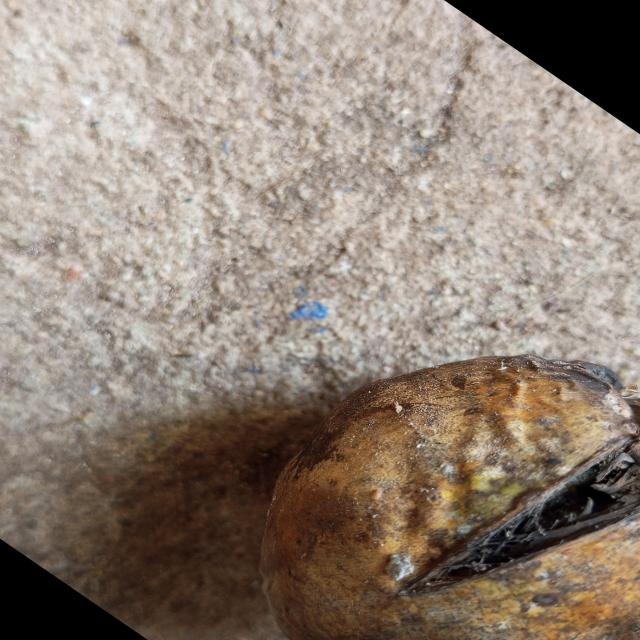damaged: (260, 356, 640, 640)
